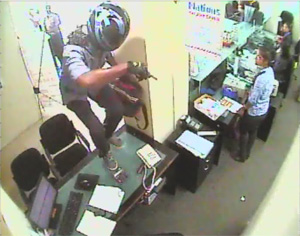helmet: (79, 0, 134, 55)
